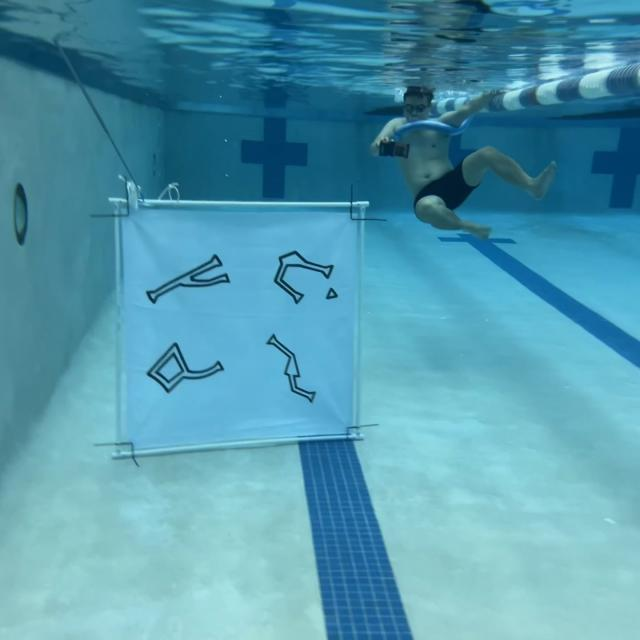abydos: (145, 253, 231, 305), (266, 332, 318, 404)
buoy: (122, 208, 358, 439)
earth: (146, 342, 224, 394), (273, 250, 339, 305)
